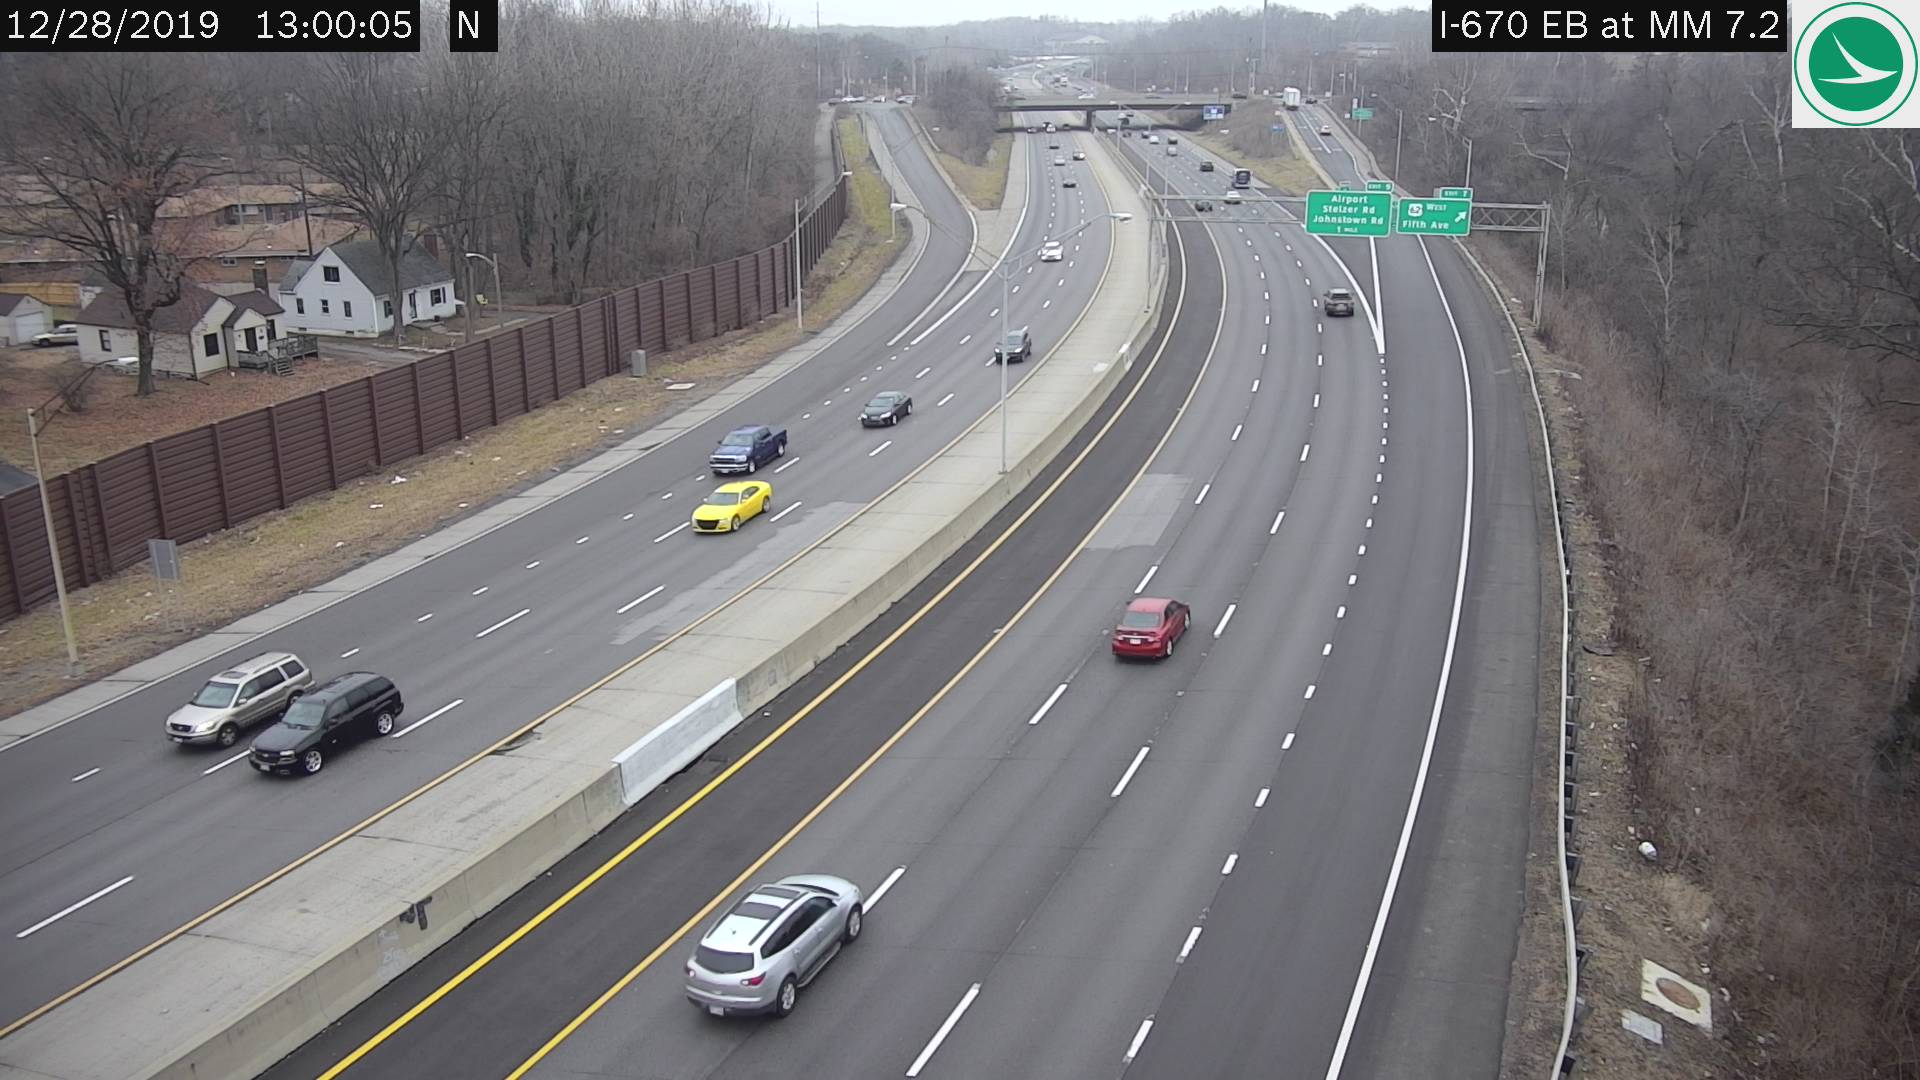car: (686, 872, 862, 1025), (243, 673, 402, 785), (166, 651, 314, 752), (1110, 596, 1185, 659), (690, 480, 770, 531), (709, 425, 786, 472), (858, 388, 914, 429), (990, 328, 1030, 360), (1323, 284, 1354, 316), (1230, 167, 1254, 189), (1038, 240, 1062, 260), (1197, 160, 1215, 167)
